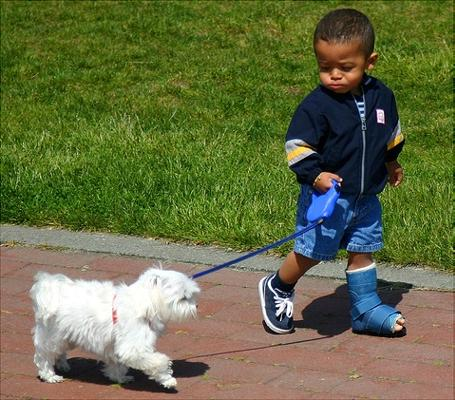person: (259, 10, 407, 336)
